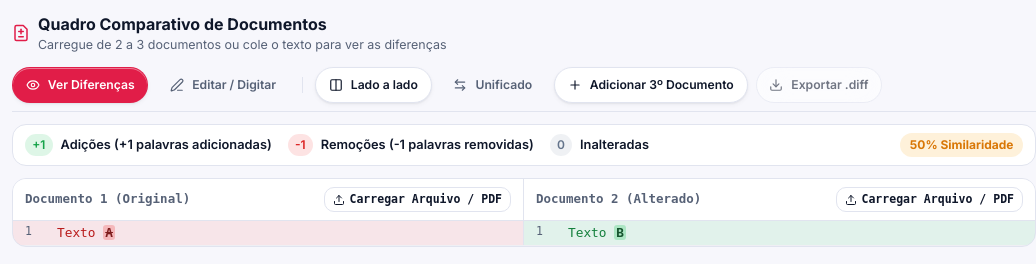
it: DocumentComparePanel - Comparador de 2 a 3 Documentos › permite alternar para modo unificado e exibe as linhas coloridas
Click the button "Unificado" at (493, 85), box [440,67,546,103]
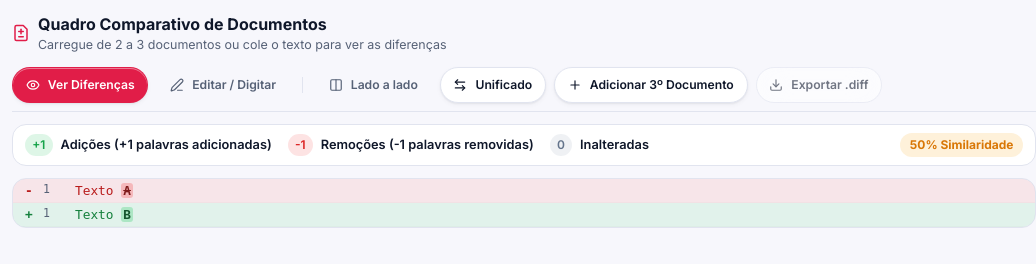
Expected: the element with class "doc-compare-diff-line--added" is shown, [13,203,1035,228]
Expected: the element with class "doc-compare-diff-line--removed" is shown, [13,179,1035,203]
